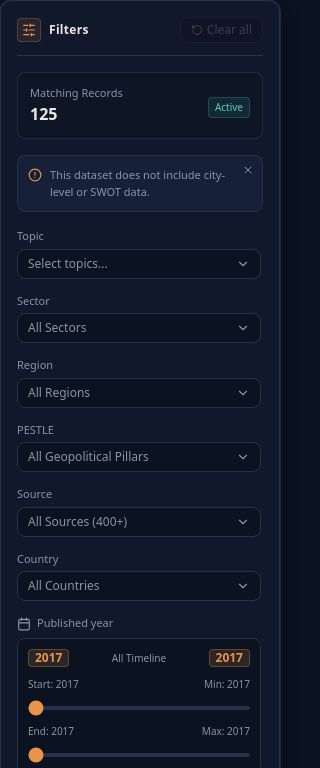
FilterSidebar Component › allows multi-selecting topics and clearing selections
expect the text "Select topics..." is shown: met, box [28, 256, 108, 272]
Open Topic dropdown
Click the button "Select topics..." at coordinates (139, 264), box [17, 249, 261, 279]
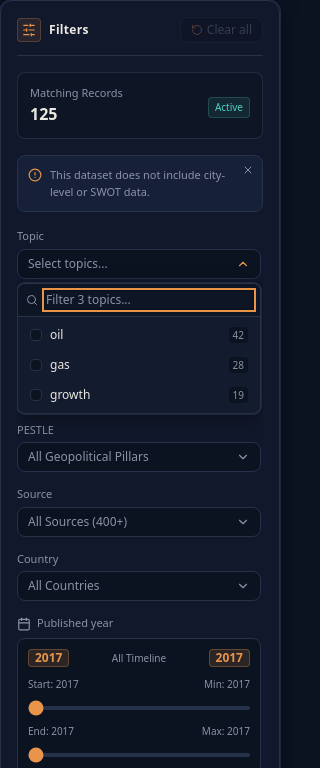
expect the text "oil" is shown: met
Select 'oil'
Click the text "oil" at coordinates (57, 335), box [50, 327, 64, 343]
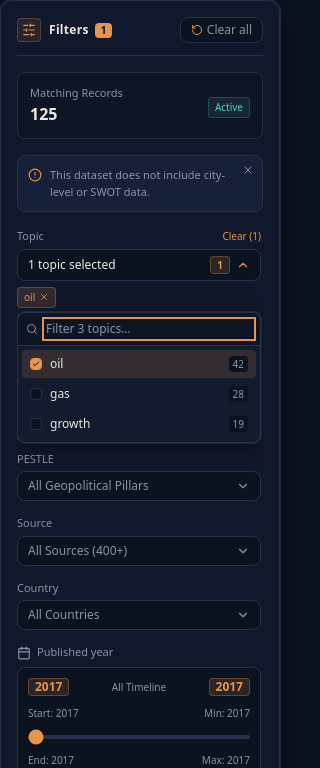
expect the text "Clear all" is enabled: met, box [207, 22, 252, 38]
expect the text "1 topic selected" is shown: met, box [28, 257, 116, 273]
Click Clear all
Click the button "Clear all" at coordinates (221, 30), box [180, 17, 263, 43]
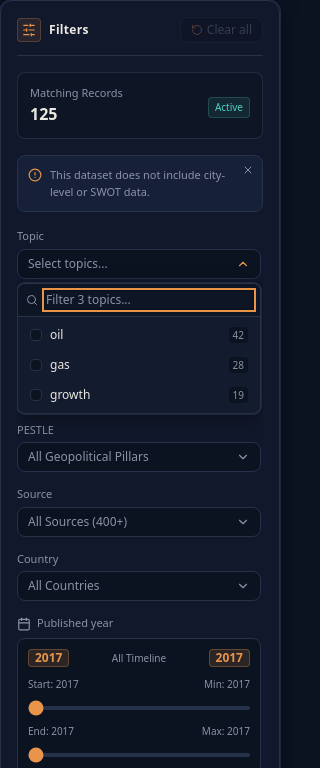
expect the text "Select topics..." is shown: met, box [28, 256, 108, 272]
